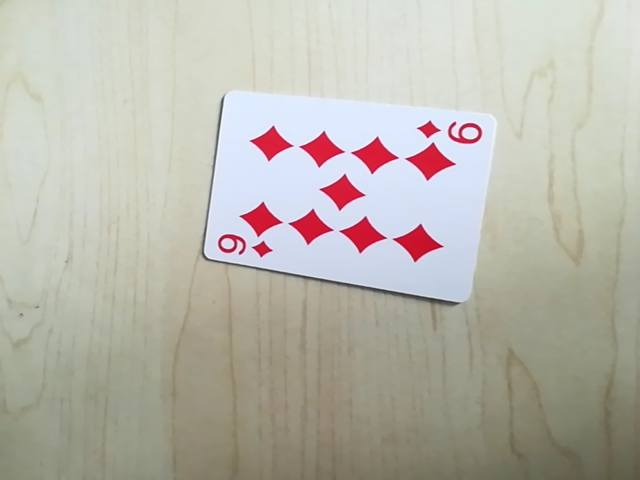fk 9: (414, 115, 489, 149), (210, 231, 277, 263)
